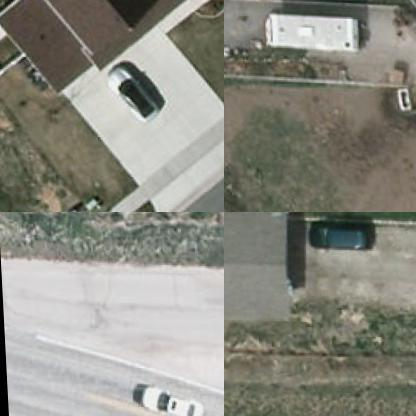camping car: (257, 9, 361, 50)
car: (97, 60, 154, 119), (132, 382, 201, 415), (304, 220, 370, 250)
